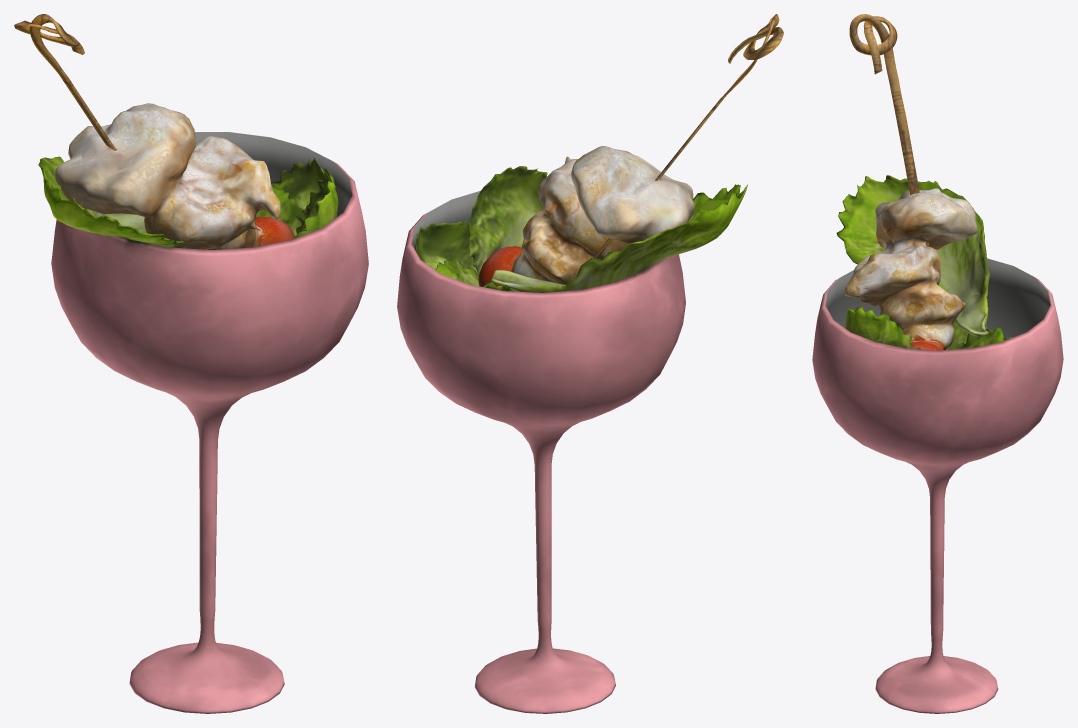
The model's file is gambas-draco.glb.
3 views of the same model, side by side, from view 1: azimuth 30°, elevation 25°; view 2: azimuth 150°, elevation 25°; view 3: azimuth 270°, elevation 25° (orthographic). The views are drawn at different scales.
Parts seen in each view (by area): view 1: Line003, Group33366, Group20451, Gambas; view 2: Line003, Group33366, Group20451, Gambas; view 3: Line003, Group33366, Group20451, Gambas.
Boxes of the visible parts, x1,y1,x2,y2 form: Line003: [51, 132, 368, 713]; Group33366: [55, 103, 295, 249]; Group20451: [38, 156, 338, 247]; Gambas: [14, 14, 116, 150]; Line003: [397, 190, 685, 713]; Group33366: [478, 146, 694, 286]; Group20451: [415, 166, 747, 292]; Gambas: [593, 14, 783, 258]; Line003: [812, 258, 1063, 713]; Group33366: [844, 188, 978, 350]; Group20451: [836, 175, 1011, 349]; Gambas: [849, 14, 929, 246].
Size of the model in its own units: 0.7267 by 1.43 by 0.5461.
2 materials, 2 textured.
